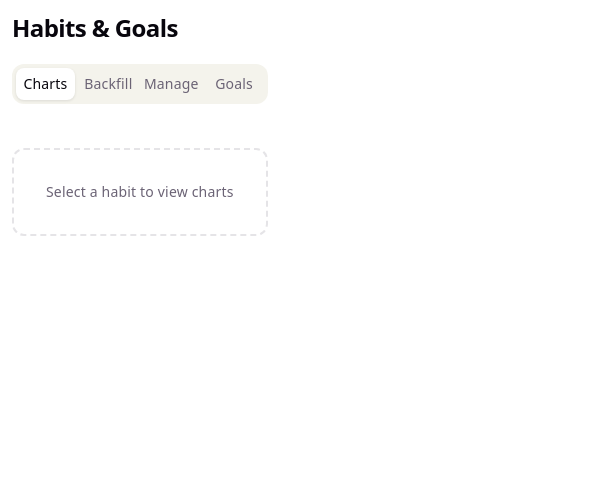
Test: HabitsPage › switches to Backfill tab on click
This screenshot has width=606, height=498.
Click the tab "Backfill" at (108, 84), box x1=79 y1=68 x2=138 y2=100
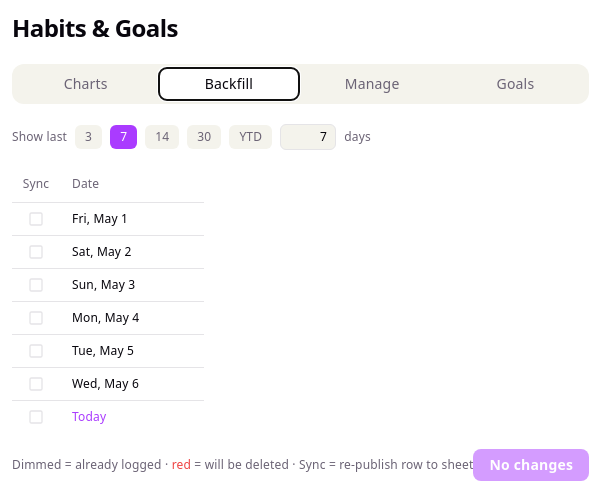
Result: the text "Show last" is shown at x1=12 y1=129 x2=67 y2=145
